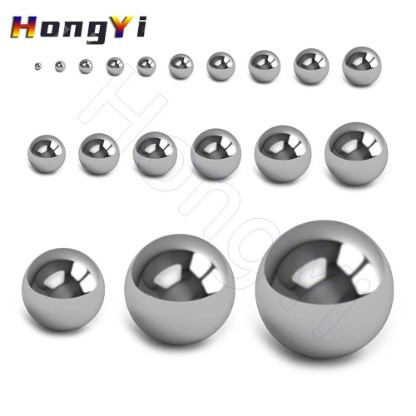ironball: (254, 218, 393, 359), (123, 232, 235, 345), (20, 247, 104, 331), (324, 121, 388, 185), (253, 124, 311, 182), (189, 127, 241, 179), (132, 131, 177, 176), (77, 132, 119, 174), (341, 45, 381, 86), (27, 133, 65, 173), (292, 47, 329, 84), (247, 49, 280, 82), (205, 51, 235, 80), (168, 53, 193, 79), (136, 56, 156, 76), (105, 56, 123, 75), (78, 58, 92, 73), (54, 60, 65, 71), (34, 61, 41, 69)
